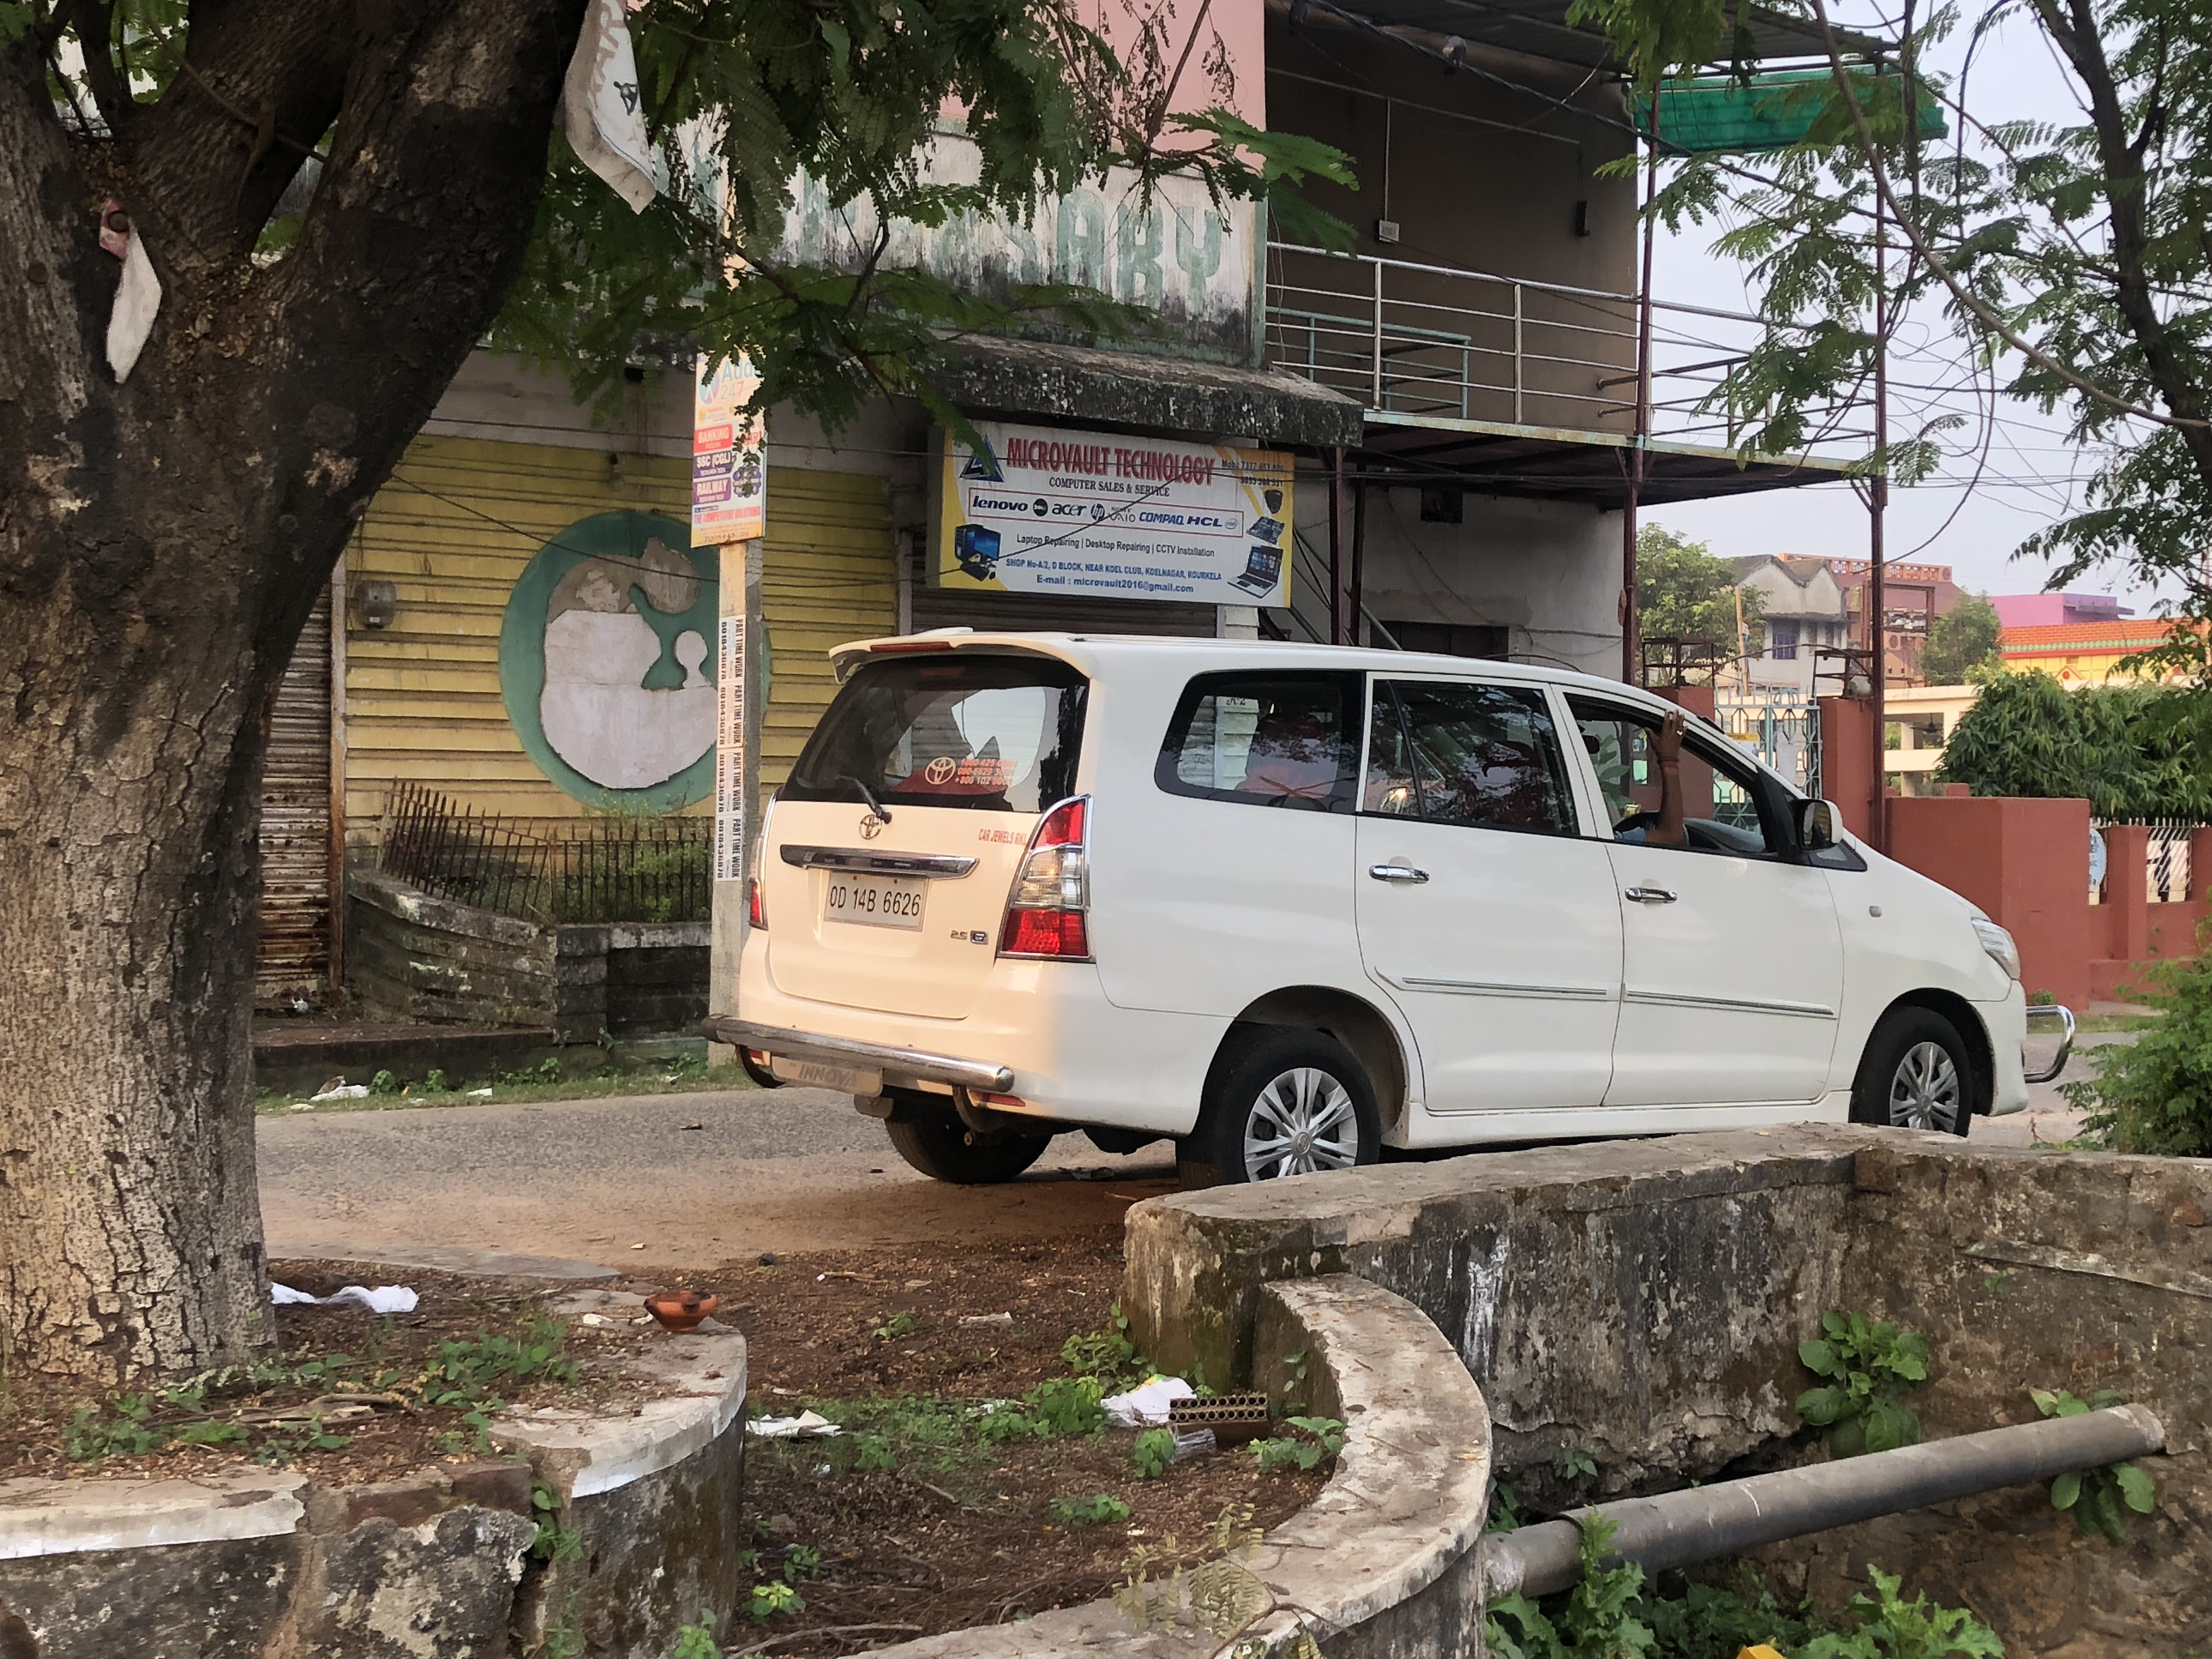licenseplate: (805, 855, 932, 937)
